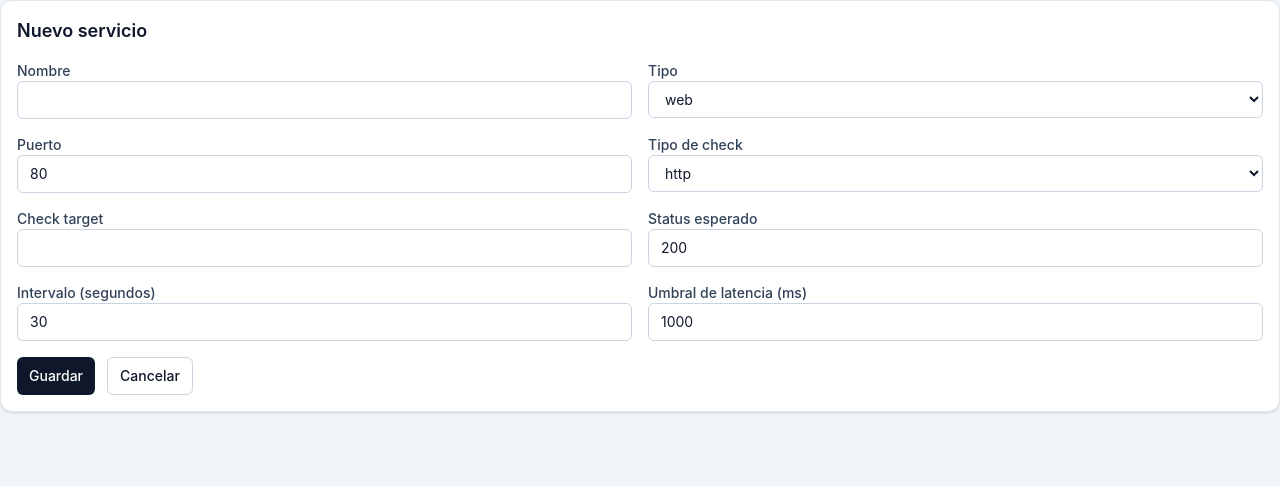
ServiceForm › muestra el detalle de validación del checkTarget
Type "API" into the field labelled "Nombre".
click(324, 100); type("API")  # box [17,81,632,119]
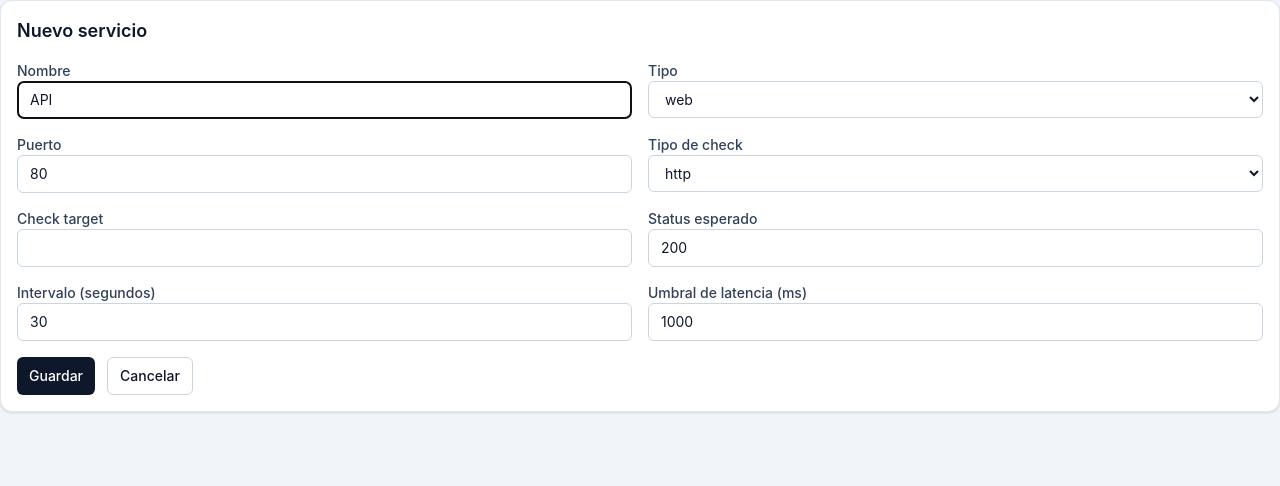
Type "ftp://api.example.com" into the field labelled "Check target".
click(324, 248); type("ftp://api.example.com")  # box [17,229,632,267]
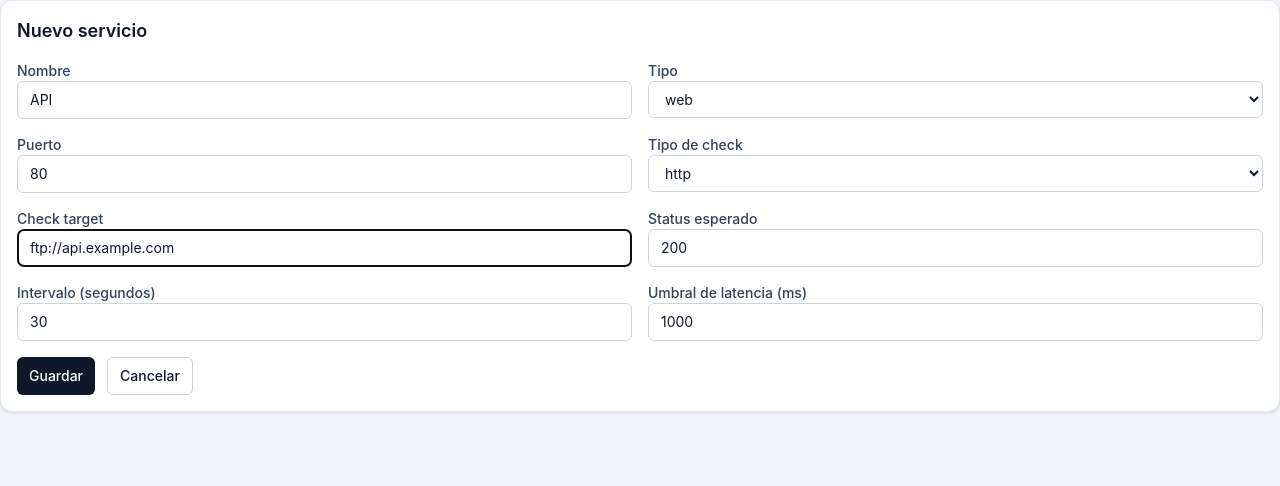
Click the button "Guardar".
click(56, 376)  # box [17,357,95,395]
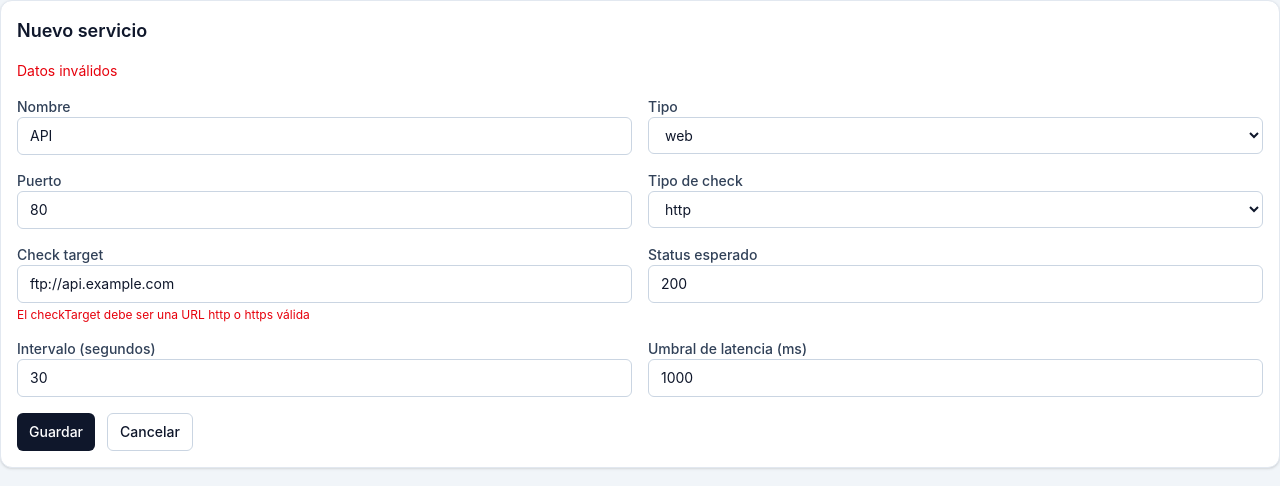
Expected: the text "El checkTarget debe ser una URL http o https válida" is shown, [17,307,310,322]
